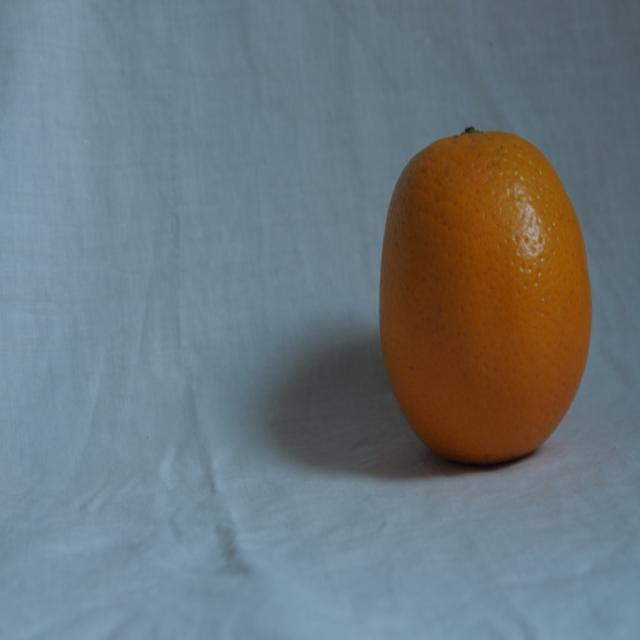Orange: (386, 121, 596, 447)
